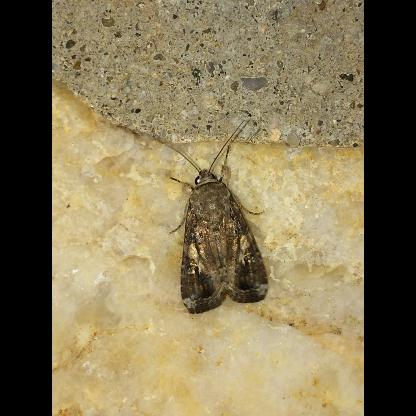Fall Armyworm Moth: (113, 118, 272, 318)
